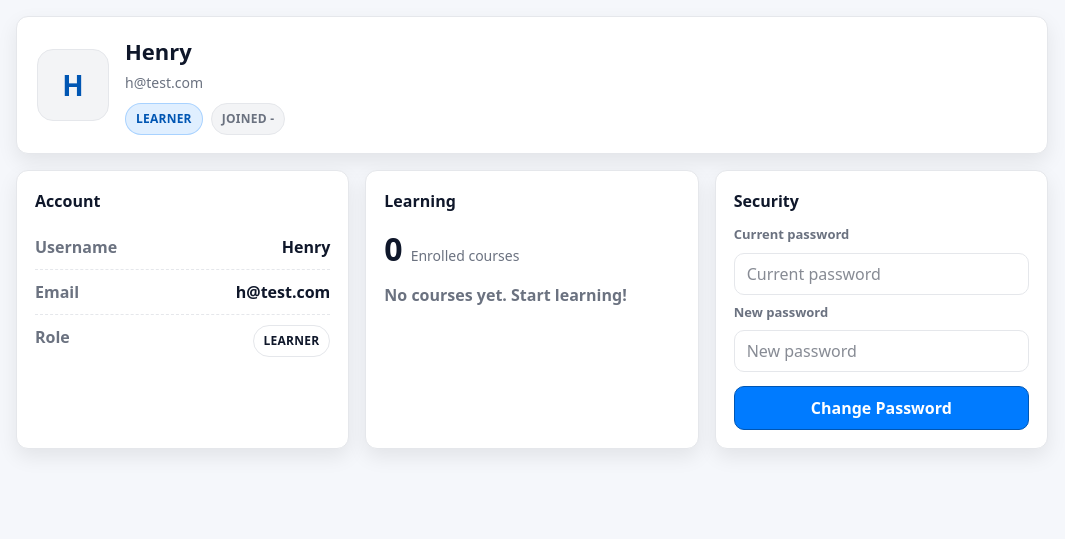
it: ProfilePage › shows validation error if password fields missing
The image size is (1065, 539).
Check: the 1st text "h@test.com" is shown, box x1=125 y1=73 x2=203 y2=92
# submit form without entering passwords
Click the button "Change Password" at {"x": 881, "y": 408}, box x1=734 y1=386 x2=1029 y2=430
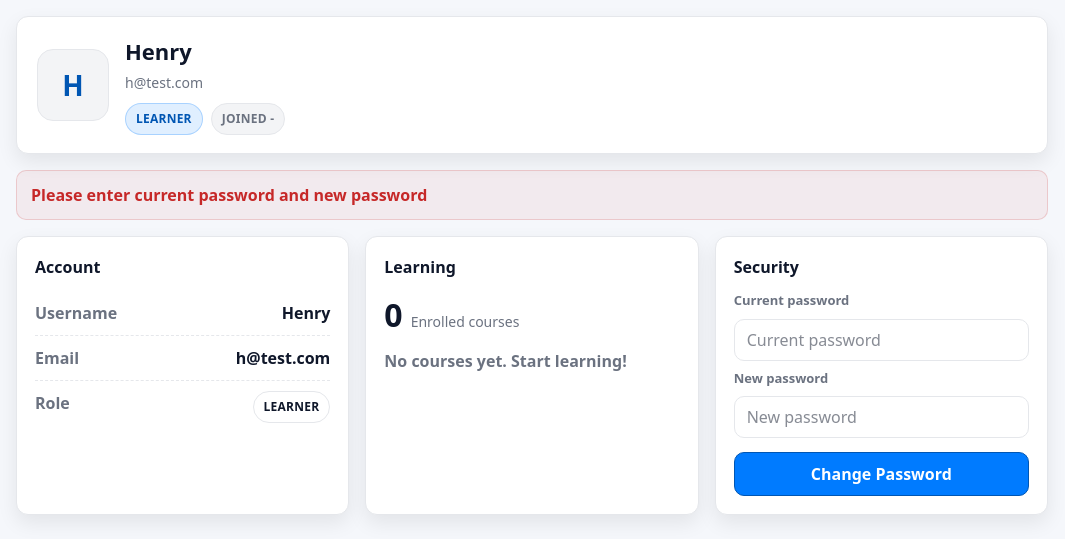
Check: the text "Please enter current password and new password" is shown, box x1=16 y1=170 x2=1048 y2=220
